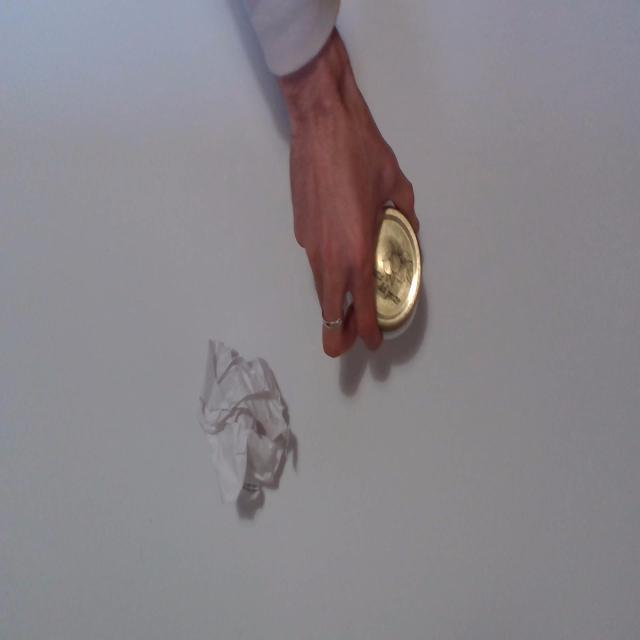Paper: (196, 331, 298, 518)
